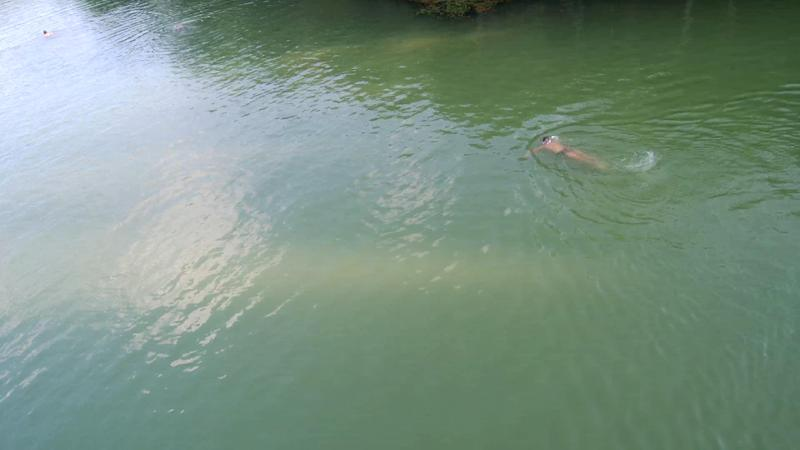swimmers: (527, 131, 614, 175)
